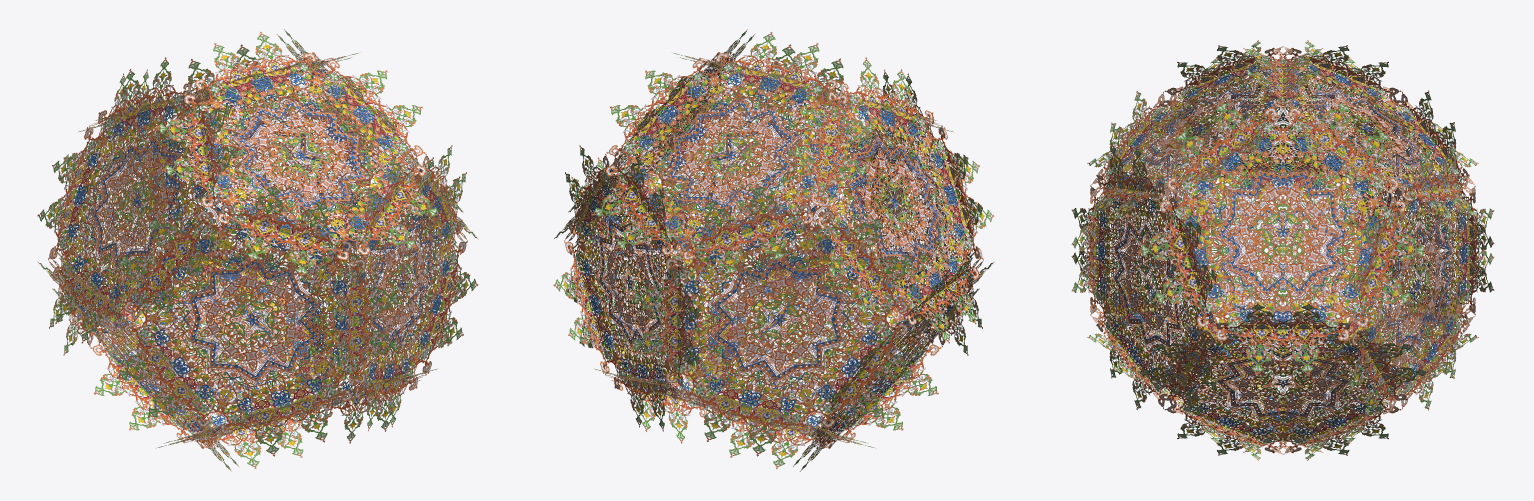
The model's file is 2GreatDitrigonalDodecicosidodecahedron.gltf.
The picture shows the model from 3 angles, left to right: view 1: azimuth 30°, elevation 25°; view 2: azimuth 150°, elevation 25°; view 3: azimuth 270°, elevation 25°; orthographic projection. The views are drawn at different scales.
Parts seen in each view (by area): view 1: GreatDitrigonalDodecicosidodecahedron9; view 2: GreatDitrigonalDodecicosidodecahedron9; view 3: GreatDitrigonalDodecicosidodecahedron9.
Boxes of the visible parts, x1,y1,x2,y2 form: GreatDitrigonalDodecicosidodecahedron9: (37,29,478,471); GreatDitrigonalDodecicosidodecahedron9: (553,29,994,471); GreatDitrigonalDodecicosidodecahedron9: (1071,40,1494,460).
Size of the model in its own units: 2.24 by 2.24 by 2.24.
Materials: 1 (1 with a texture image).
